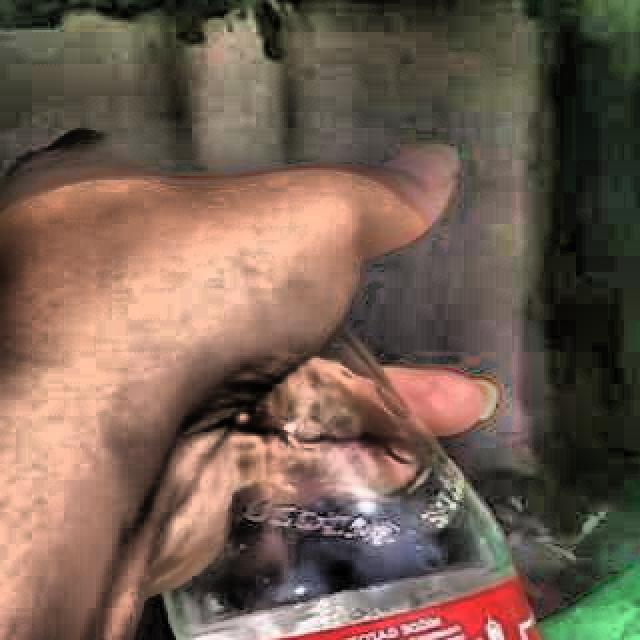glass: (165, 332, 541, 640)
